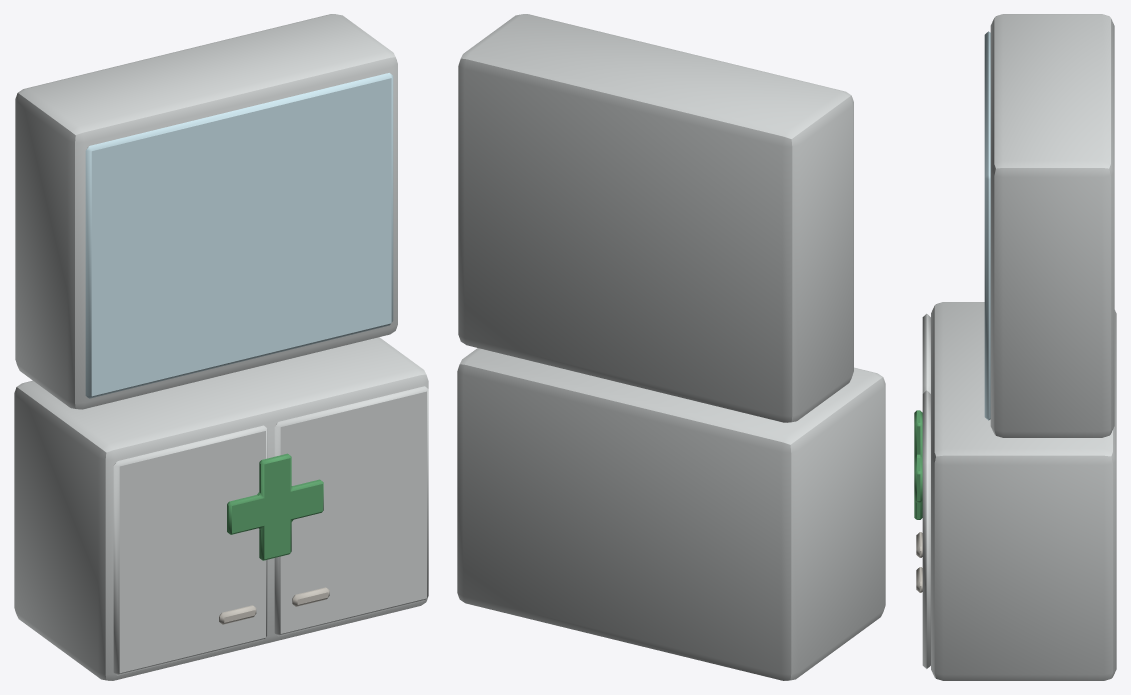
The model's file is medicine_cabinet.glb.
The picture shows the model from 3 angles, left to right: view 1: azimuth 30°, elevation 25°; view 2: azimuth 150°, elevation 25°; view 3: azimuth 270°, elevation 25°; orthographic projection. The views are drawn at different scales.
Visible parts, largest first — view 1: hospital, glass, cross, steel; view 2: hospital; view 3: hospital, glass, cross, steel.
Boxes of the visible parts, x1,y1,x2,y2 form: hospital: [14, 14, 428, 680]; glass: [85, 73, 393, 398]; cross: [227, 453, 323, 560]; steel: [219, 587, 329, 624]; hospital: [457, 14, 885, 680]; hospital: [922, 14, 1116, 680]; glass: [984, 31, 990, 420]; cross: [914, 410, 922, 519]; steel: [916, 532, 922, 592].
Bounding box in the file's own units: 0.9 × 1.39 × 0.49.
